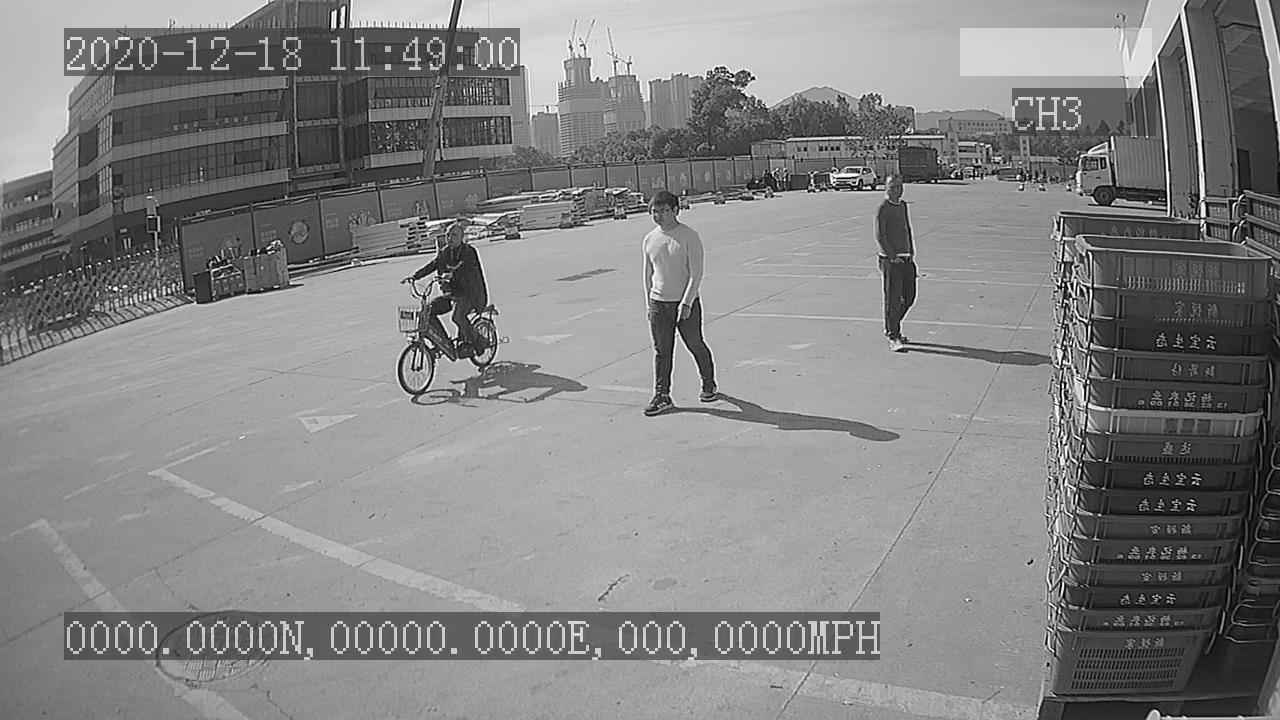person: (640, 188, 720, 422), (872, 170, 922, 356)
